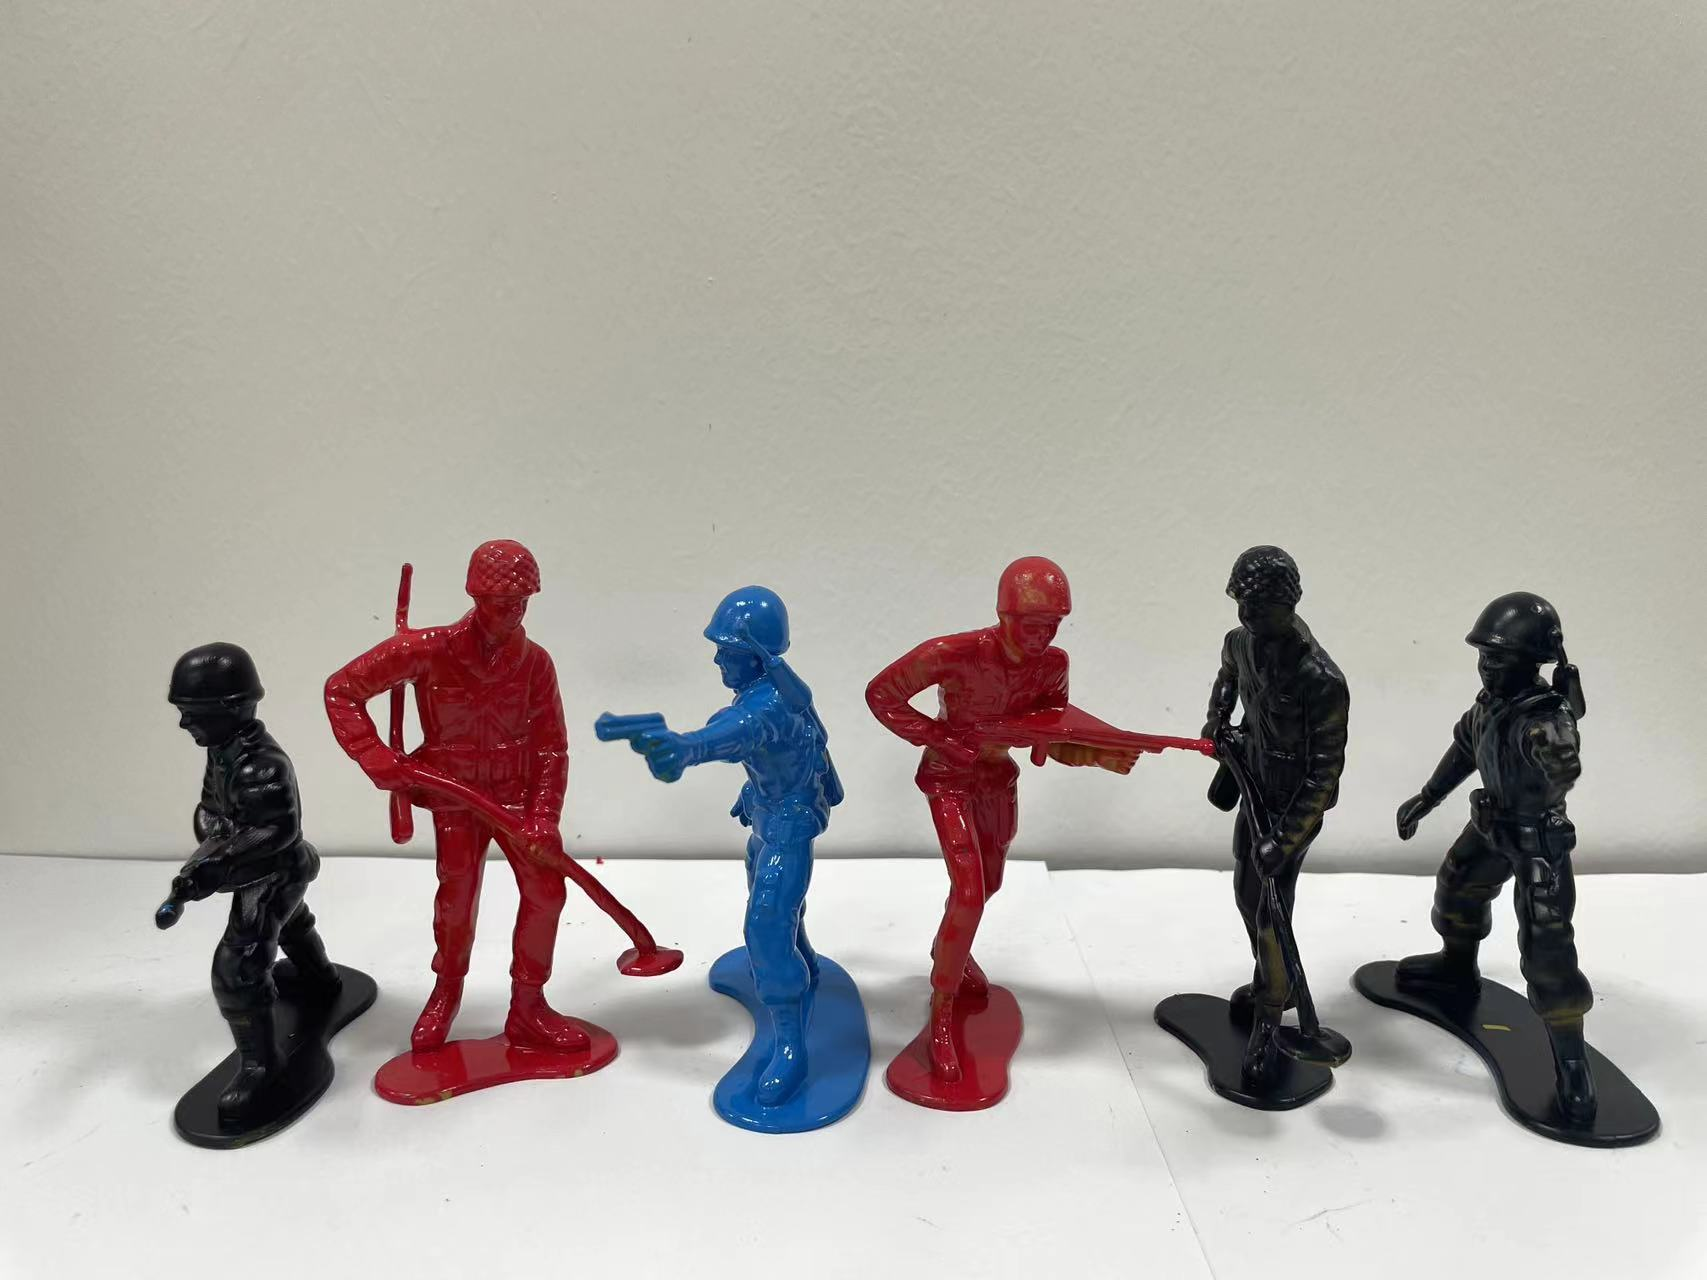black: (1362, 561, 1695, 1211), (118, 558, 323, 1176), (1164, 528, 1366, 1131)
blue: (601, 570, 868, 1167)
red: (859, 524, 1161, 1160), (320, 476, 593, 1162)
